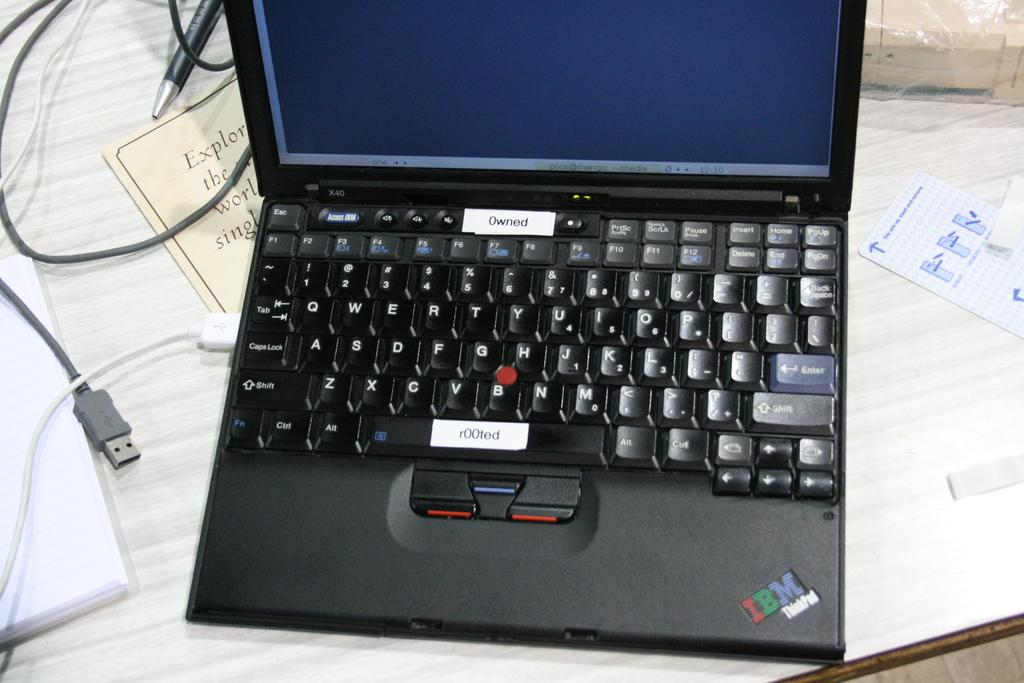Computer-keyboard: (224, 201, 841, 498)
